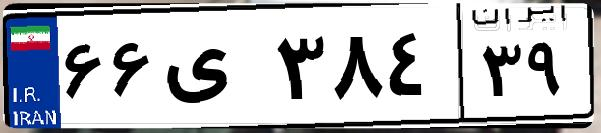3: (270, 28, 330, 110), (475, 38, 525, 113)
4: (385, 28, 445, 110)
6: (57, 26, 110, 100), (110, 28, 158, 98)
8: (330, 28, 385, 110)
9: (525, 38, 570, 115)
ی: (158, 20, 270, 120)
